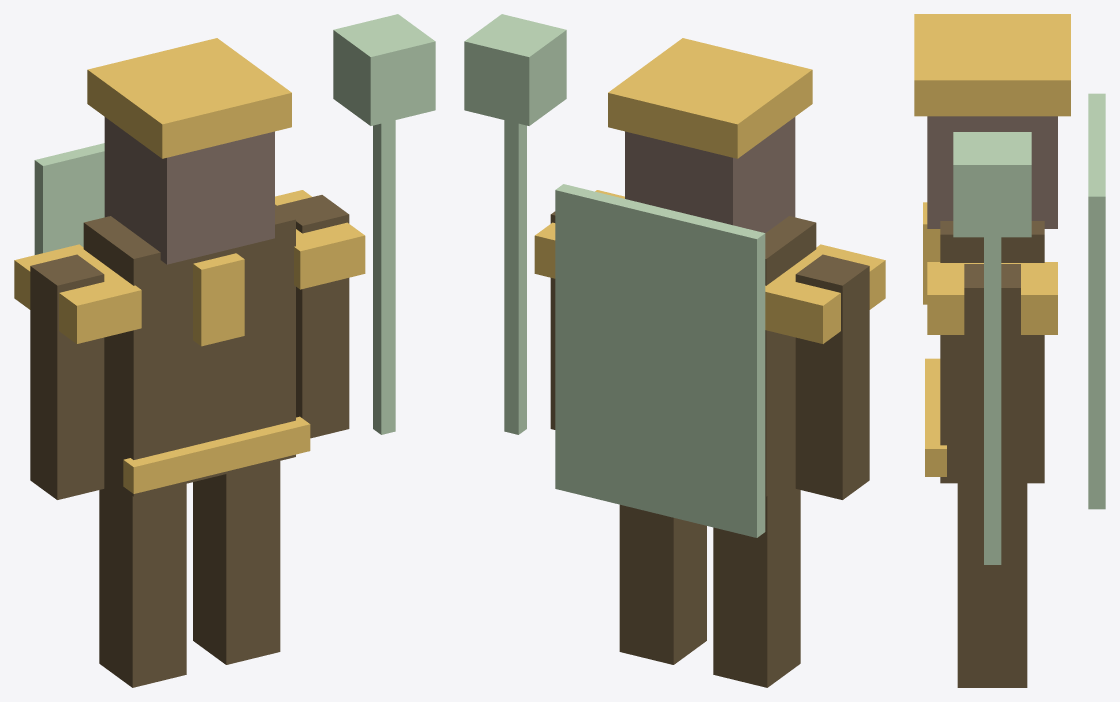
Rendered from 13_brant_chromabell_specialist_under_titanroot.glb.
The picture shows the model from 3 angles, left to right: view 1: azimuth 30°, elevation 25°; view 2: azimuth 150°, elevation 25°; view 3: azimuth 270°, elevation 25°; orthographic projection. The views are drawn at different scales.
Parts seen in each view (by area): view 1: Brant Chromabell, Specialist under Titanroot; view 2: Brant Chromabell, Specialist under Titanroot; view 3: Brant Chromabell, Specialist under Titanroot.
Boxes of the visible parts, bbox=[...] form: Brant Chromabell, Specialist under Titanroot: bbox=[14, 14, 435, 687]; Brant Chromabell, Specialist under Titanroot: bbox=[464, 14, 885, 687]; Brant Chromabell, Specialist under Titanroot: bbox=[914, 14, 1105, 687].
Bounding box in the file's own units: 1.02 × 1.51 × 0.4335.
